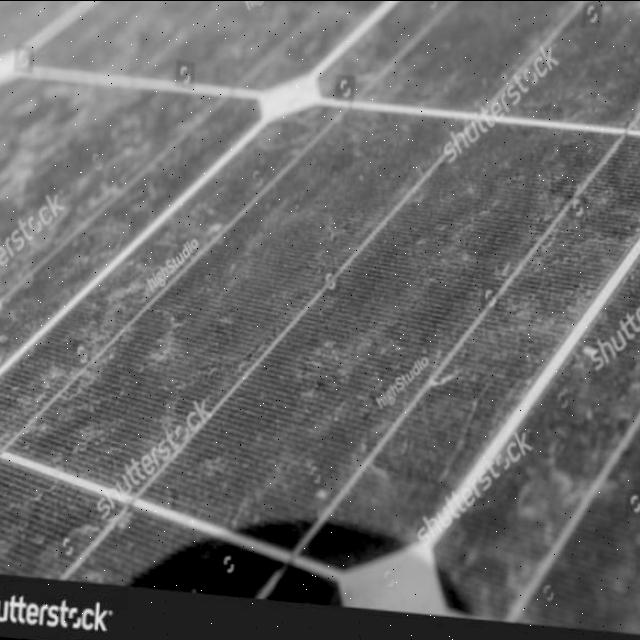Anomaly Solar Panel: (0, 0, 640, 626)
Surface Contaminant: (0, 0, 640, 626)
